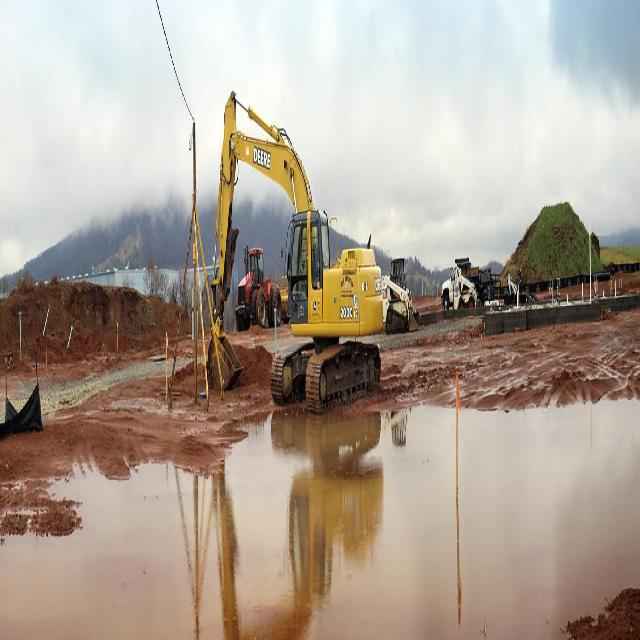Camion volquete: (441, 256, 501, 306)
Excavadora: (208, 82, 384, 406)
pala cargadora: (234, 245, 288, 329), (382, 256, 424, 333), (453, 266, 478, 308)
